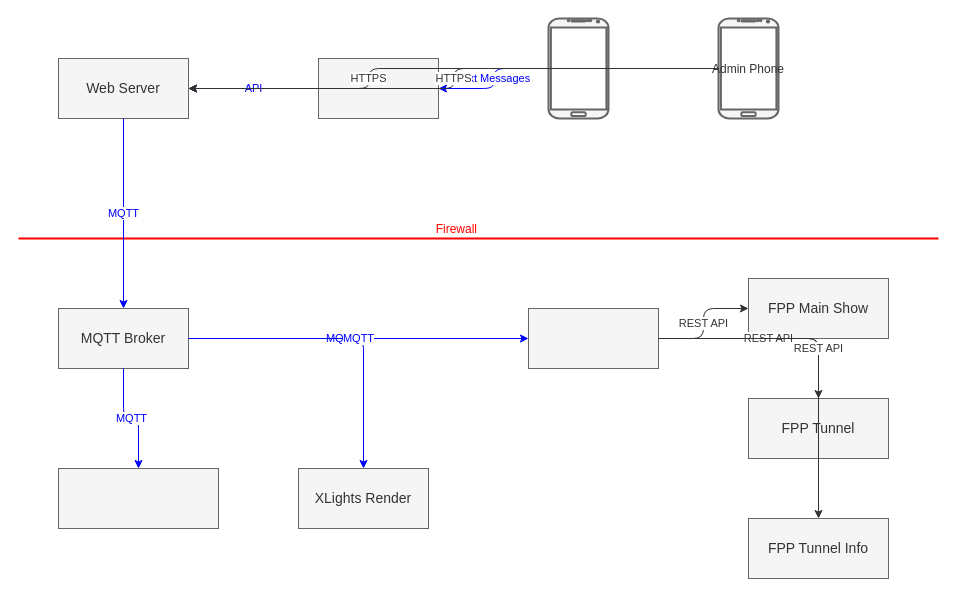
The diagram is 957 pixels wide and 596 high, and some of its shapes have lost their labels. Here are the shapes that lost their labels. From the top down, the centre of each, then its label:
point (378, 88): Twilio
point (578, 68): Phone
point (593, 338): fppscheduler
point (138, 498): Clock and Snowman controller
